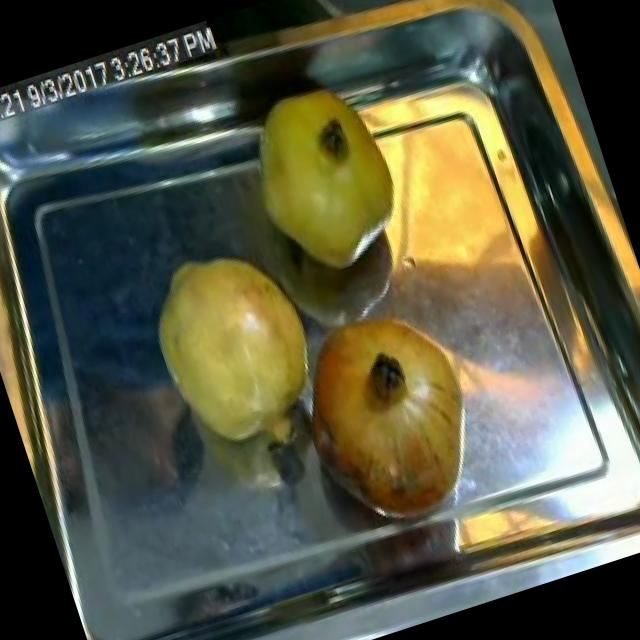fruit: (274, 284, 508, 553), (124, 217, 350, 483), (226, 62, 428, 296)
